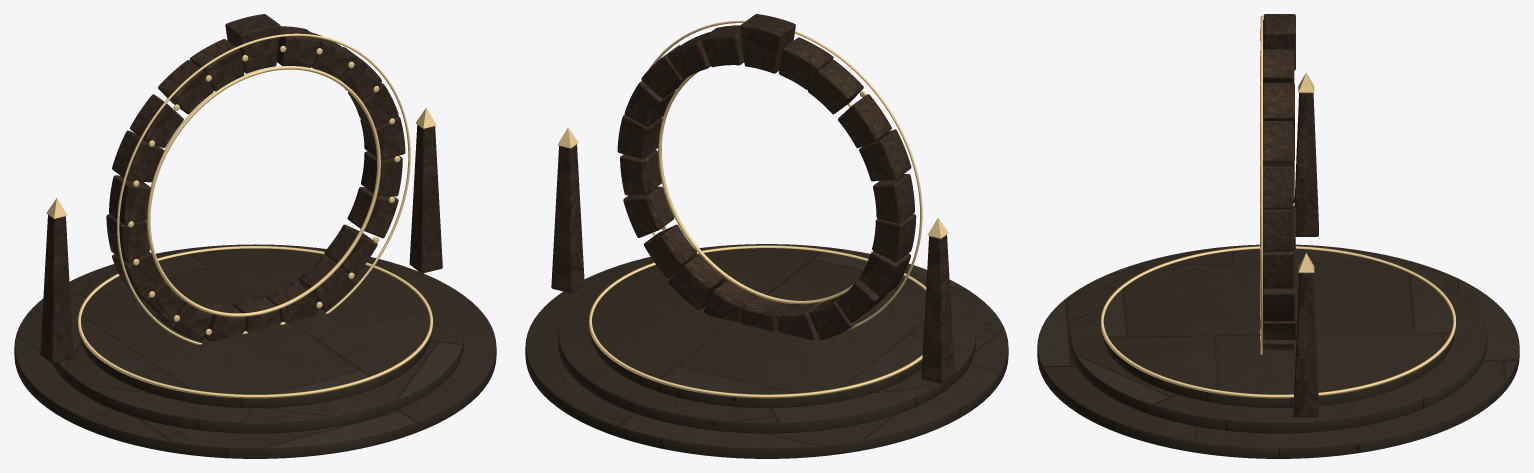
File: portal.glb
3 views of the same model, side by side, from view 1: azimuth 30°, elevation 25°; view 2: azimuth 150°, elevation 25°; view 3: azimuth 270°, elevation 25° (orthographic).
Visible parts, largest first — view 1: Portal_Step2, Portal_Step0, Portal_Step1, Portal_ObeliskR, Portal_ObeliskL, Portal_GoldInner, Portal_StepTrim, Portal_GoldOuter, Portal_Block05, Portal_Block09, Portal_Block07, Portal_Block06 (+18 smaller); view 2: Portal_Step2, Portal_Step0, Portal_Step1, Portal_ObeliskL, Portal_ObeliskR, Portal_StepTrim, Portal_Block05, Portal_Block09, Portal_Block07, Portal_Block18, Portal_Block06, Portal_Block08 (+18 smaller); view 3: Portal_Step2, Portal_Step0, Portal_Step1, Portal_ObeliskR, Portal_StepTrim, Portal_ObeliskL, Portal_Block02, Portal_Block00, Portal_Block01, Portal_Block03, Portal_Block05, Portal_Block21 (+4 smaller).
Boxes of the visible parts, x1,y1,x2,y2 form: Portal_Step2: (79, 248, 431, 407); Portal_Step0: (14, 244, 496, 458); Portal_Step1: (52, 250, 463, 433); Portal_ObeliskR: (409, 124, 442, 273); Portal_ObeliskL: (40, 215, 73, 363); Portal_GoldInner: (146, 66, 380, 316); Portal_StepTrim: (78, 246, 432, 398); Portal_GoldOuter: (117, 33, 410, 344); Portal_Block05: (225, 14, 280, 73); Portal_Block09: (112, 130, 164, 182); Portal_Block07: (158, 60, 213, 114); Portal_Block06: (190, 39, 244, 91); Portal_Step2: (590, 248, 925, 407); Portal_Step0: (525, 244, 1008, 458); Portal_Step1: (558, 249, 975, 433); Portal_ObeliskL: (921, 234, 954, 383); Portal_ObeliskR: (551, 144, 584, 293); Portal_StepTrim: (589, 245, 926, 398); Portal_Block05: (740, 14, 795, 73); Portal_Block09: (859, 129, 911, 181); Portal_Block07: (808, 59, 863, 114); Portal_Block18: (668, 254, 724, 309); Portal_Block06: (779, 37, 833, 89); Portal_Block08: (838, 94, 891, 147); Portal_Step2: (1102, 248, 1454, 407); Portal_Step0: (1037, 244, 1519, 458); Portal_Step1: (1069, 250, 1487, 433); Portal_ObeliskR: (1293, 272, 1318, 417); Portal_StepTrim: (1101, 246, 1455, 398); Portal_ObeliskL: (1294, 92, 1318, 236); Portal_Block02: (1263, 121, 1293, 165); Portal_Block00: (1263, 207, 1293, 251); Portal_Block01: (1263, 166, 1293, 208); Portal_Block03: (1263, 82, 1294, 129); Portal_Block05: (1263, 14, 1295, 70); Portal_Block21: (1263, 250, 1293, 288).
Bounding box in the file's own units: 10.4 × 7.97 × 10.4.
Materials: 3 (2 with a texture image).
